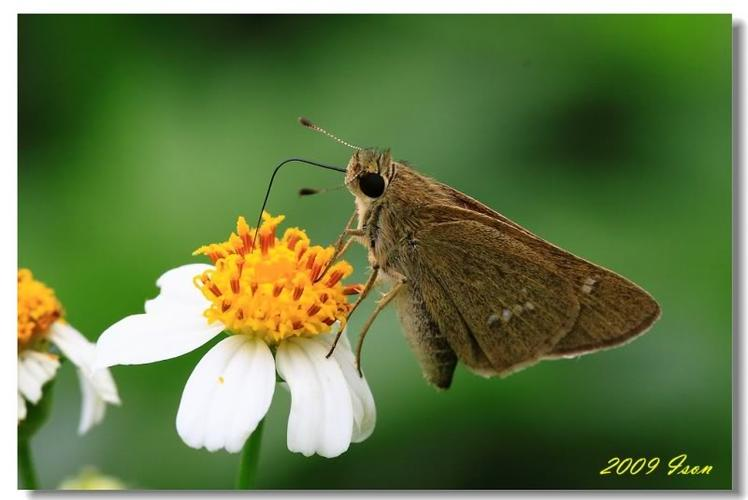Hesperiidae: (249, 108, 667, 396)
